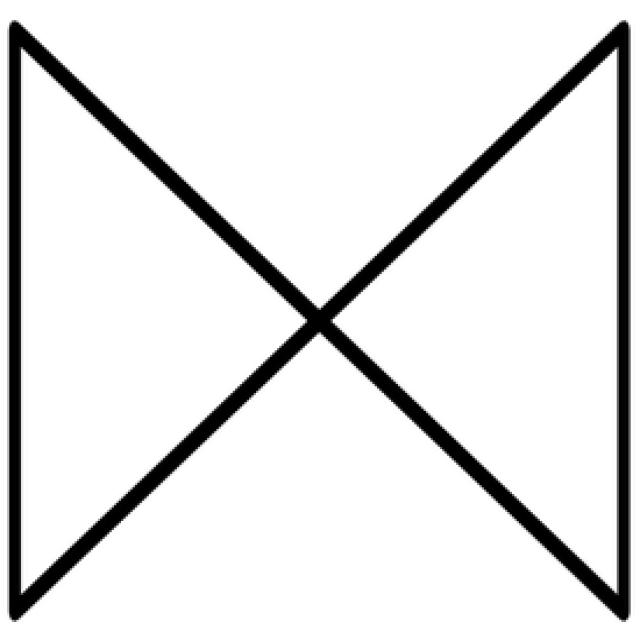Gate valve: (11, 28, 628, 613)
